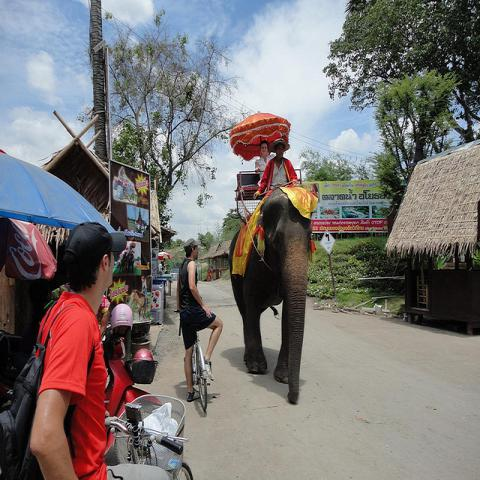motorcycle: (100, 305, 158, 416)
